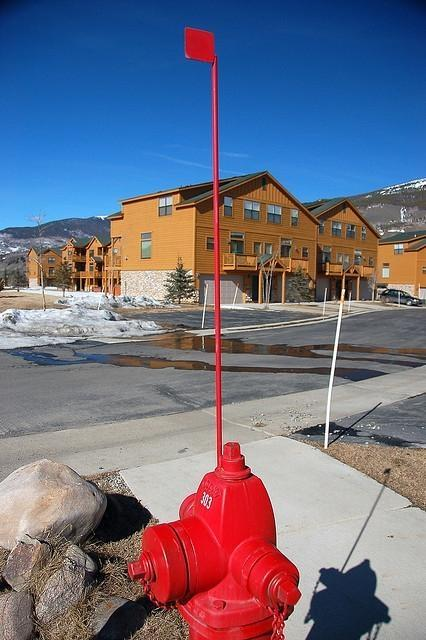car: (379, 288, 424, 306)
